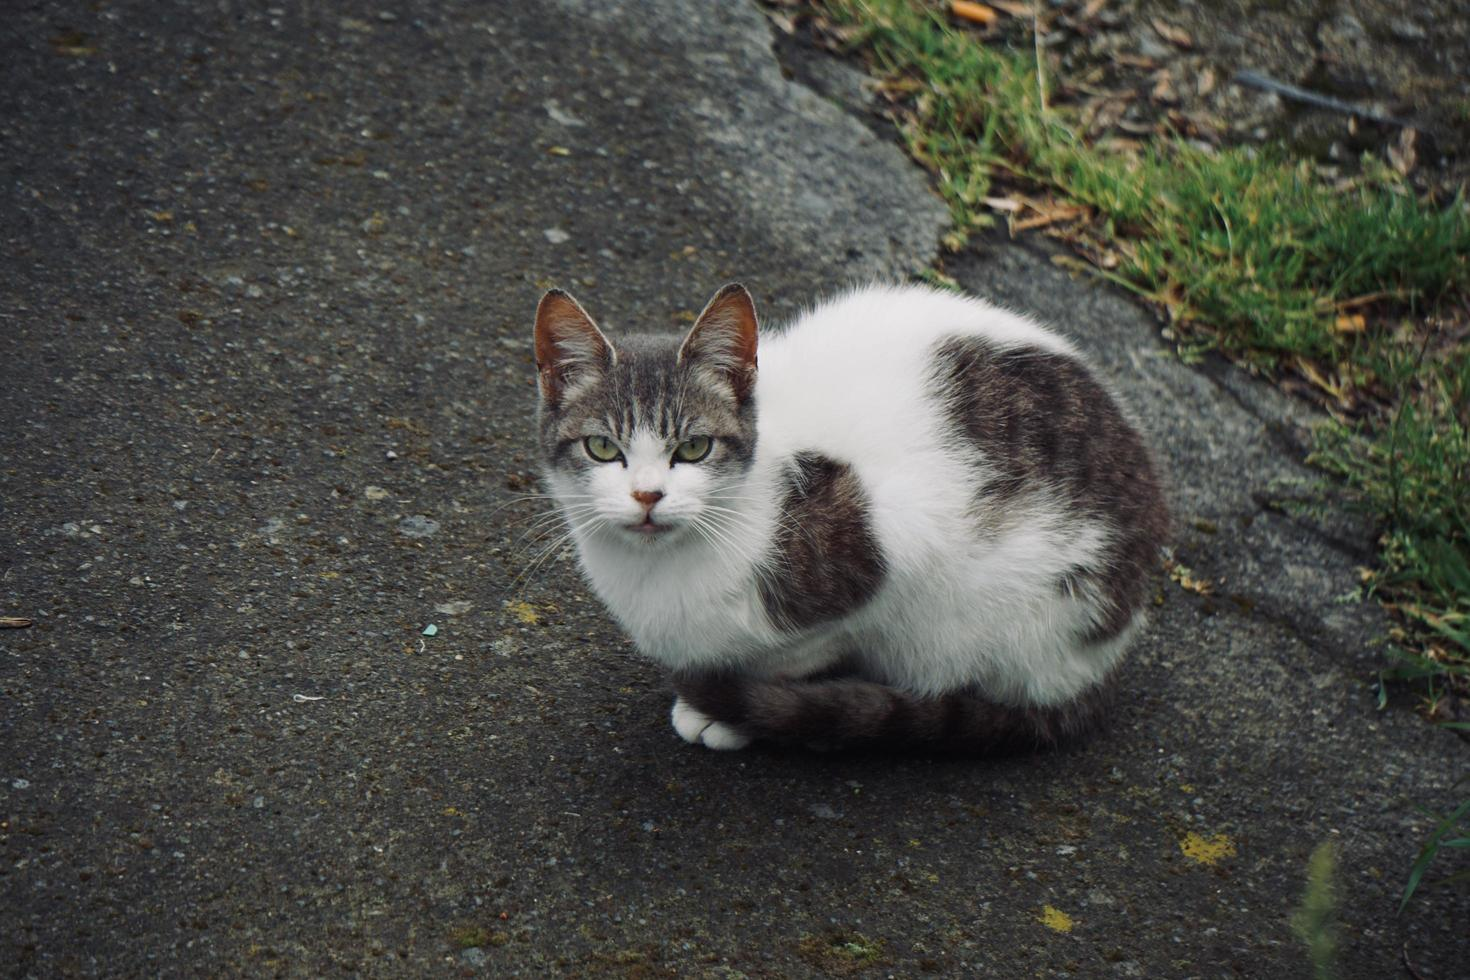cat: (480, 245, 1203, 748)
